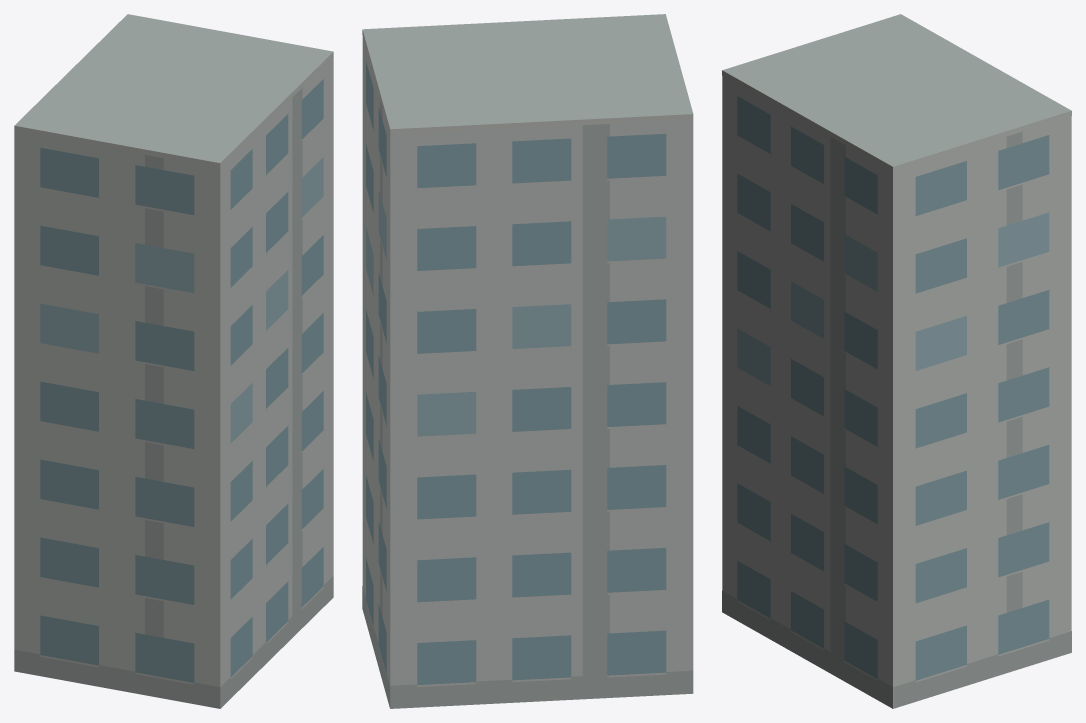
The model's file is survey-upis-33038047.glb.
The picture shows the model from 3 angles, left to right: view 1: azimuth 30°, elevation 25°; view 2: azimuth 150°, elevation 25°; view 3: azimuth 270°, elevation 25°; orthographic projection. The views are drawn at different scales.
Parts seen in each view (by area): view 1: survey-upis-33038047.tmp; view 2: survey-upis-33038047.tmp; view 3: survey-upis-33038047.tmp.
Boxes of the visible parts, x1,y1,x2,y2 form: survey-upis-33038047.tmp: [14, 14, 333, 708]; survey-upis-33038047.tmp: [362, 14, 693, 708]; survey-upis-33038047.tmp: [722, 14, 1071, 708].
Bounding box in the file's own units: 14.9 × 24.62 × 14.4.
